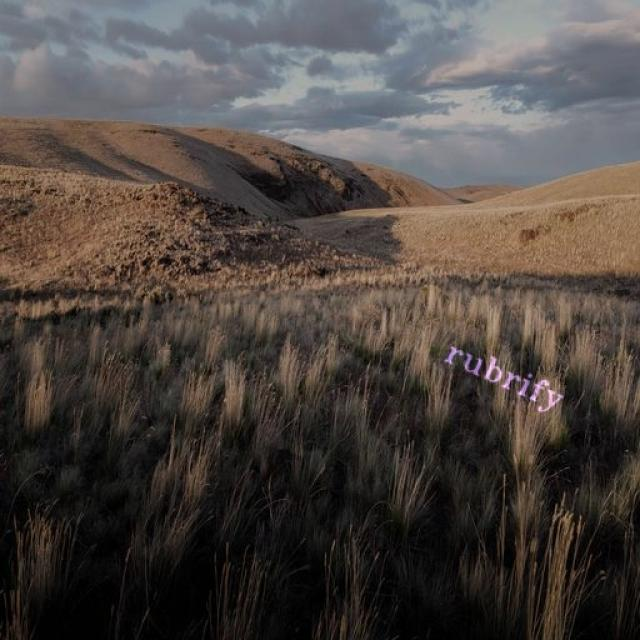watermark: (435, 335, 580, 416)
